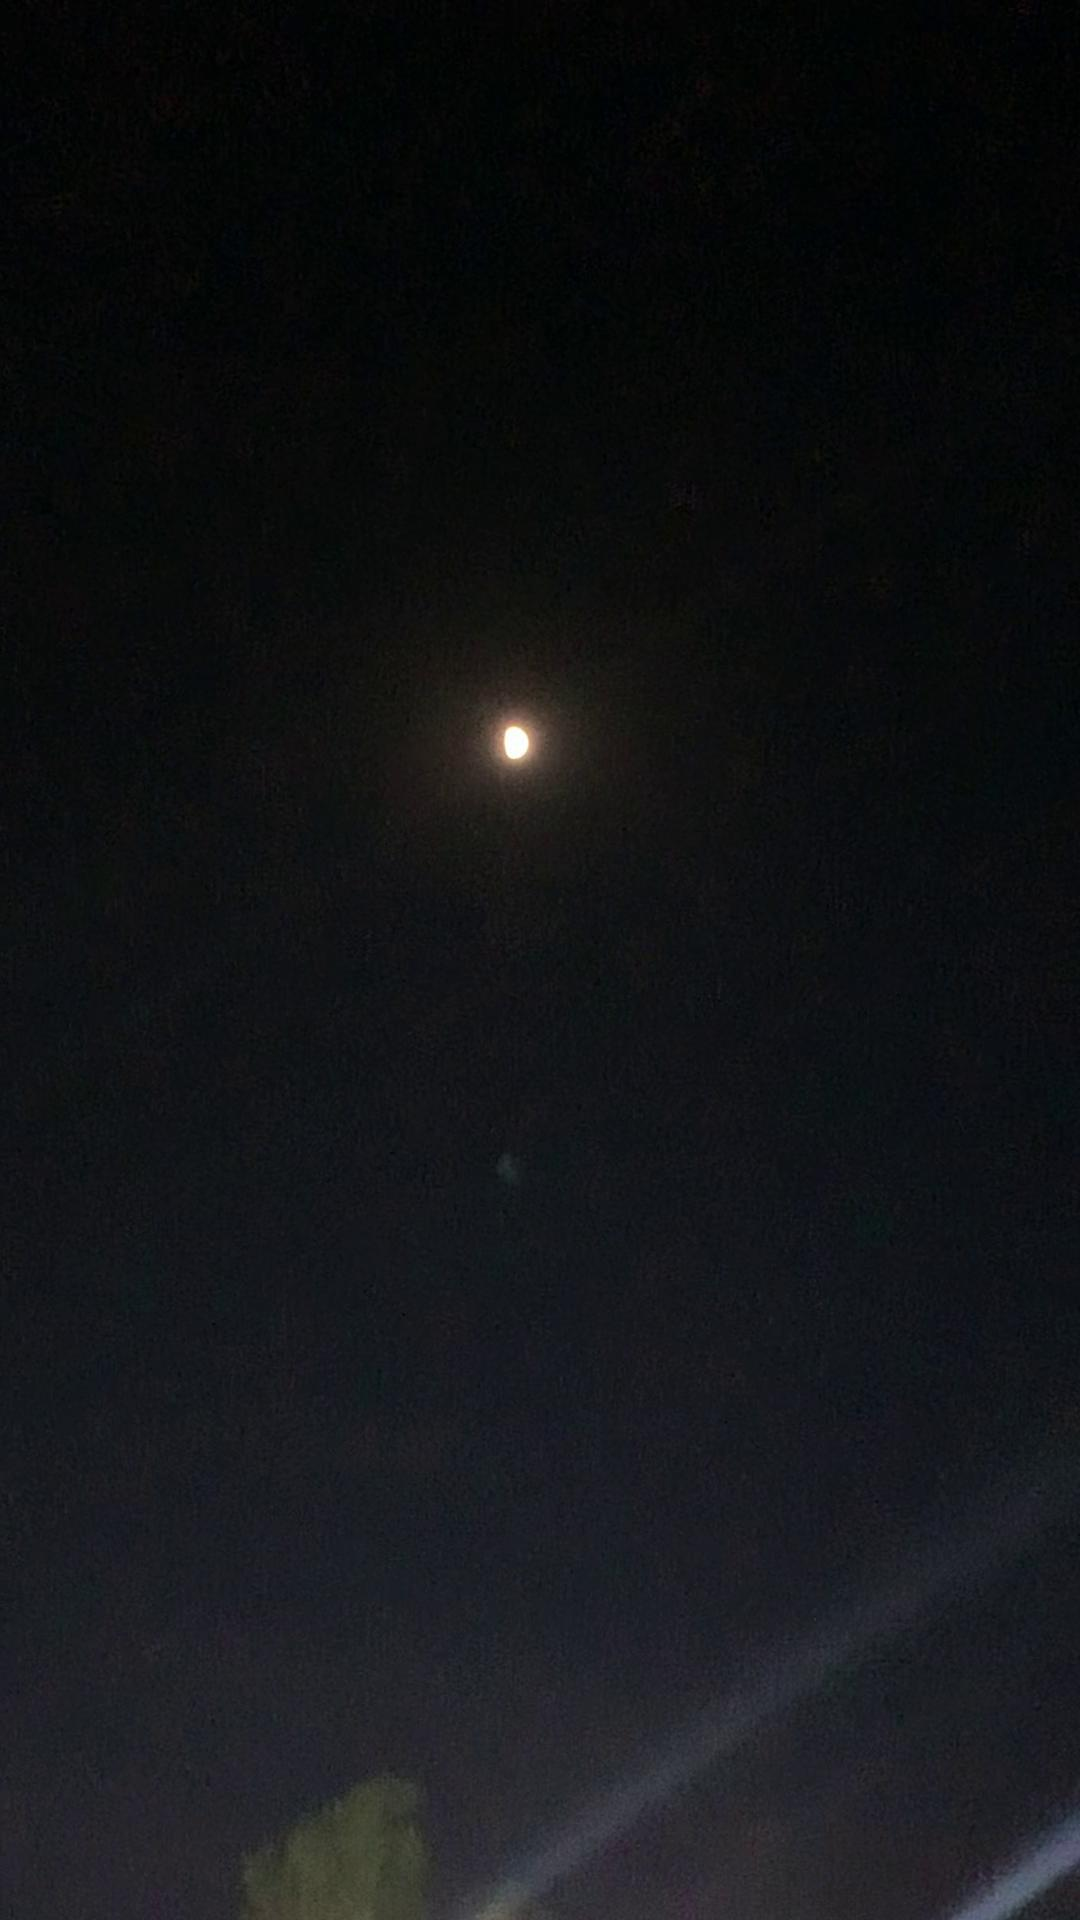moon: (465, 700, 553, 793)
